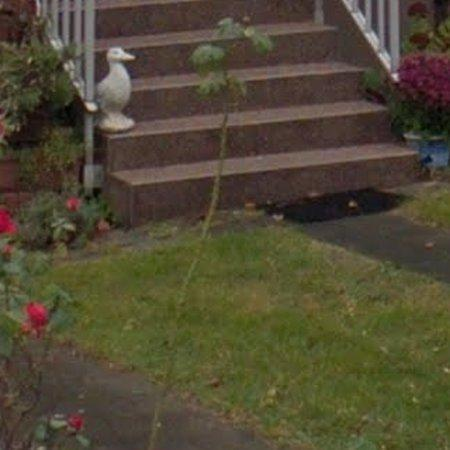stairs: (91, 0, 416, 225)
